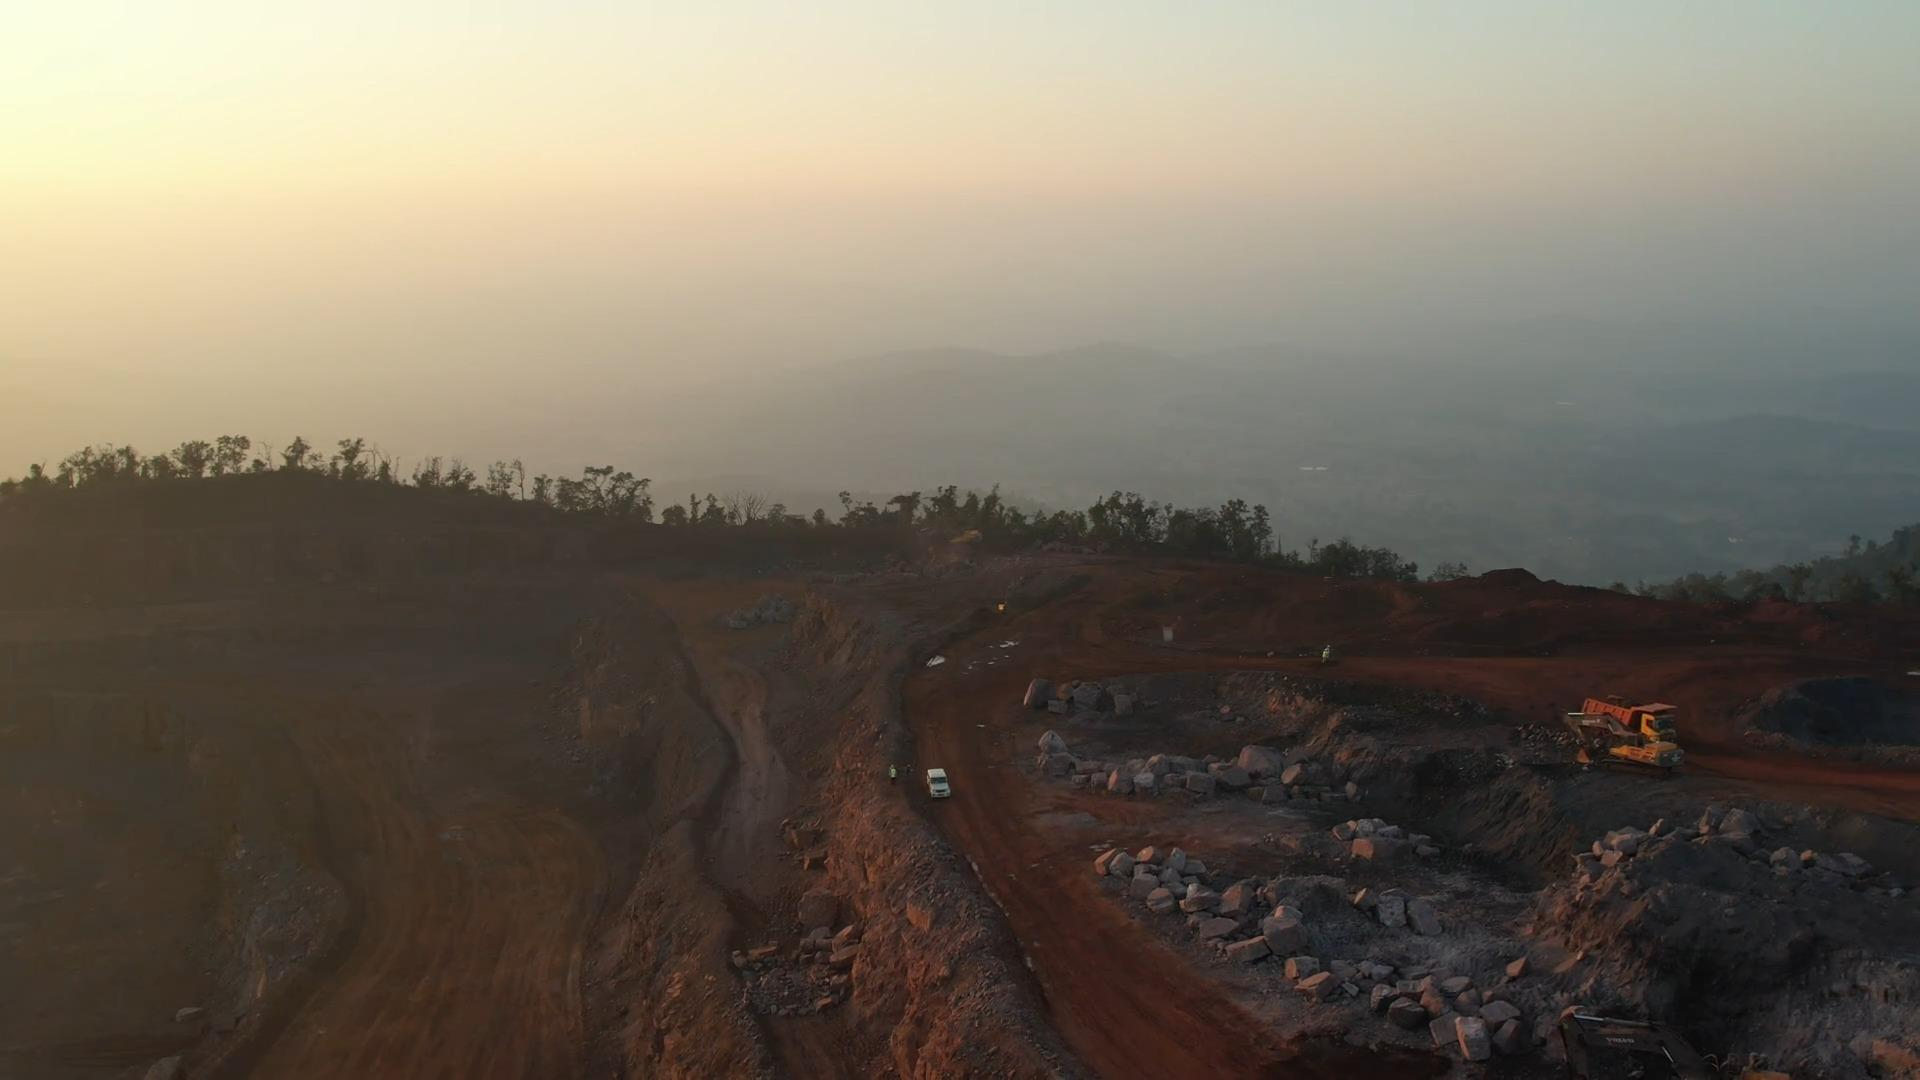excavator: (1587, 732, 1681, 773)
